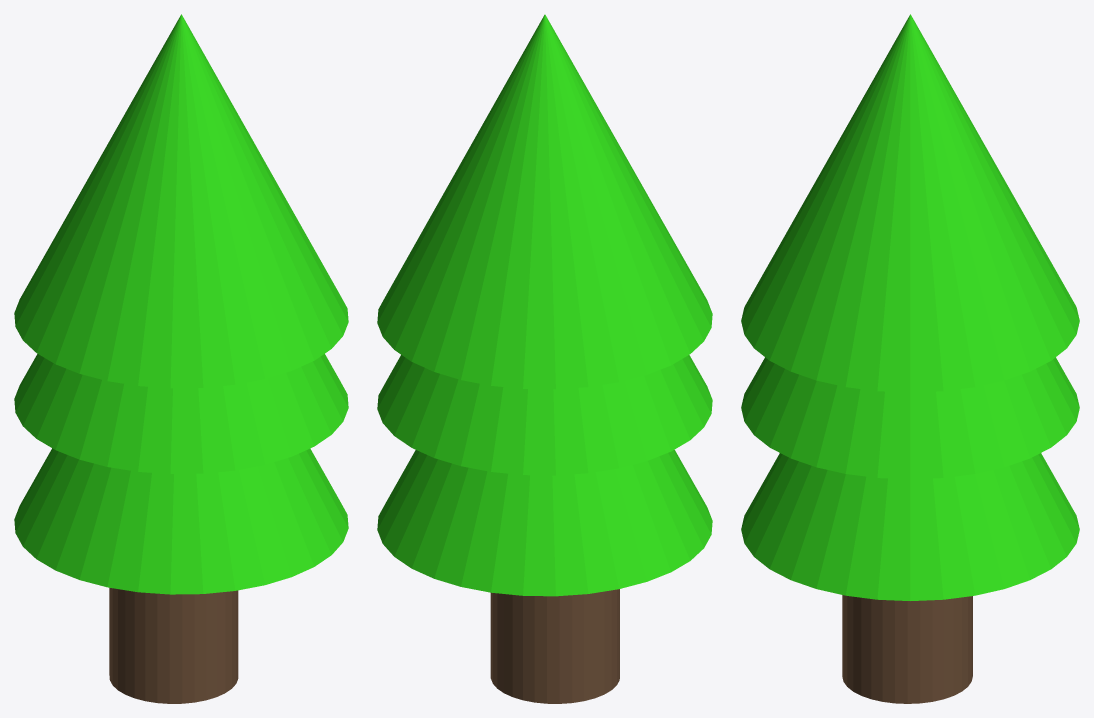
File: Tree.fbx
3 renders of one model, left to right at view 1: azimuth 30°, elevation 25°; view 2: azimuth 150°, elevation 25°; view 3: azimuth 270°, elevation 25°, orthographic.
Parts seen in each view (by area): view 1: Tree; view 2: Tree; view 3: Tree.
Part boxes in pixels (x1,y1,x2,y2): Tree: [14, 14, 348, 703]; Tree: [377, 14, 712, 703]; Tree: [741, 14, 1079, 703].
Size of the model in its own units: 1003 by 2178 by 1003.
